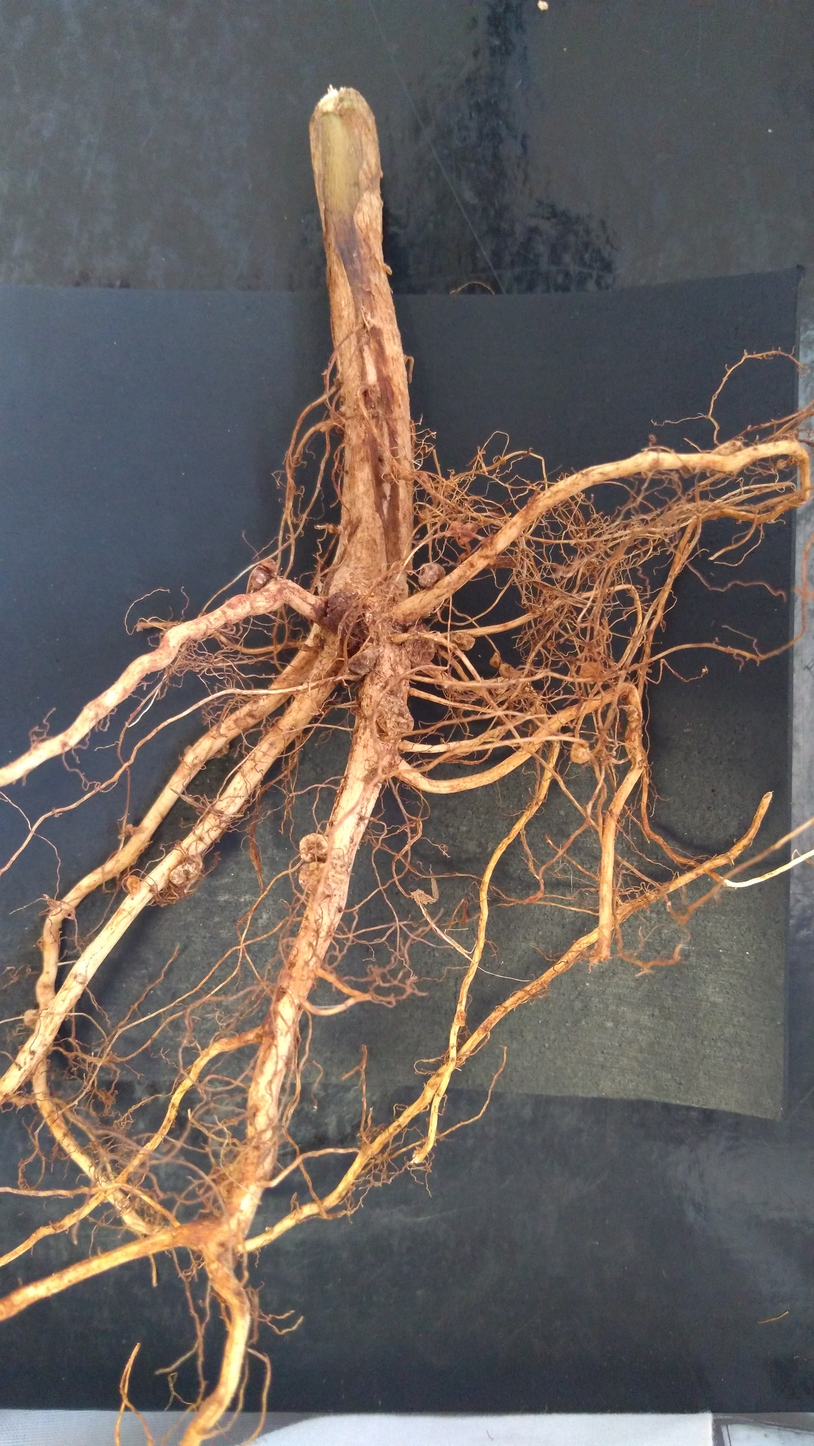nodule: (321, 583, 362, 647), (374, 694, 417, 740), (403, 621, 438, 667), (168, 851, 208, 890), (245, 550, 280, 594), (409, 554, 449, 591), (342, 645, 380, 681), (295, 859, 331, 895), (296, 828, 331, 862), (442, 628, 478, 655), (564, 737, 593, 769), (448, 517, 480, 545), (708, 438, 743, 457), (119, 872, 144, 897), (18, 1004, 40, 1029), (579, 660, 600, 683), (498, 662, 523, 678), (487, 650, 504, 669), (417, 507, 432, 523), (442, 480, 457, 491), (415, 469, 428, 481), (546, 639, 556, 649)
